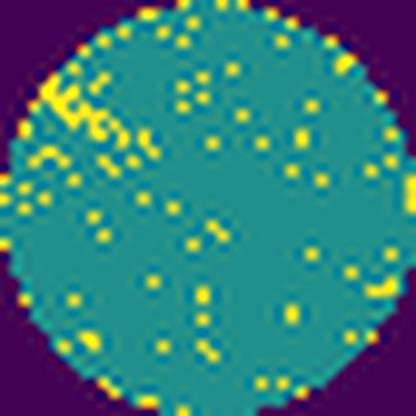Loc: (40, 76, 130, 151)
